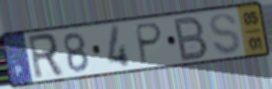4: (105, 22, 132, 71)
8: (62, 31, 91, 75)
B: (173, 14, 211, 63)
P: (135, 21, 165, 67)
R: (25, 31, 66, 82)
S: (208, 12, 243, 57)
